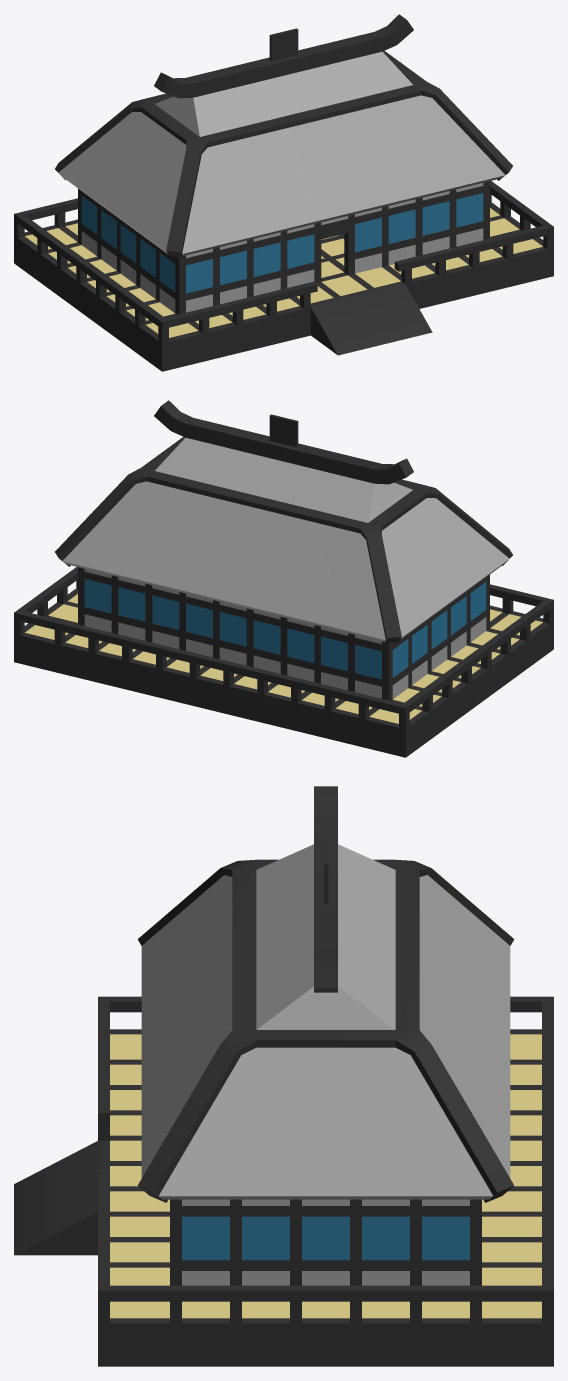
File: FoxleHouse.fbx
The picture shows the model from 3 angles, top to bottom: view 1: azimuth 30°, elevation 25°; view 2: azimuth 150°, elevation 25°; view 3: azimuth 270°, elevation 25°; orthographic projection. The views are drawn at different scales.
Visible parts, largest first — view 1: FoxleHouse; view 2: FoxleHouse; view 3: FoxleHouse.
Part boxes in pixels (x1,y1,x2,y2): FoxleHouse: (14, 14, 553, 371); FoxleHouse: (14, 400, 553, 757); FoxleHouse: (14, 786, 553, 1366).
Bounding box in the file's own units: 2900 × 1680 × 2250.
